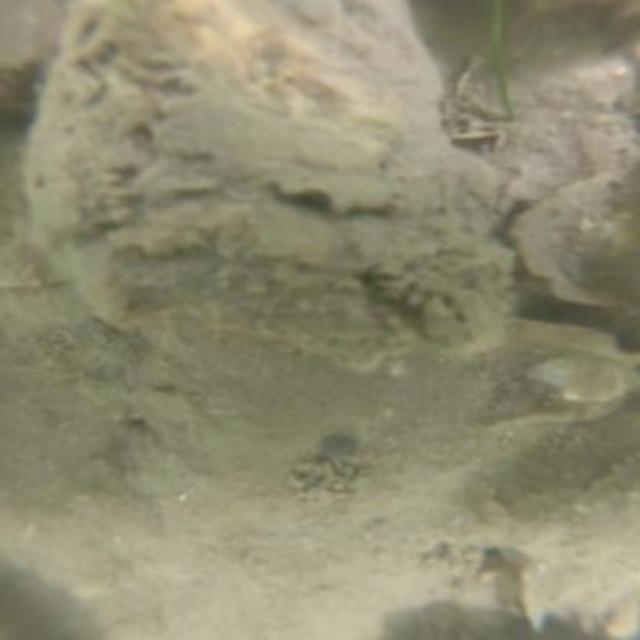Oyster-Closed: (21, 0, 530, 367), (508, 153, 640, 310)
